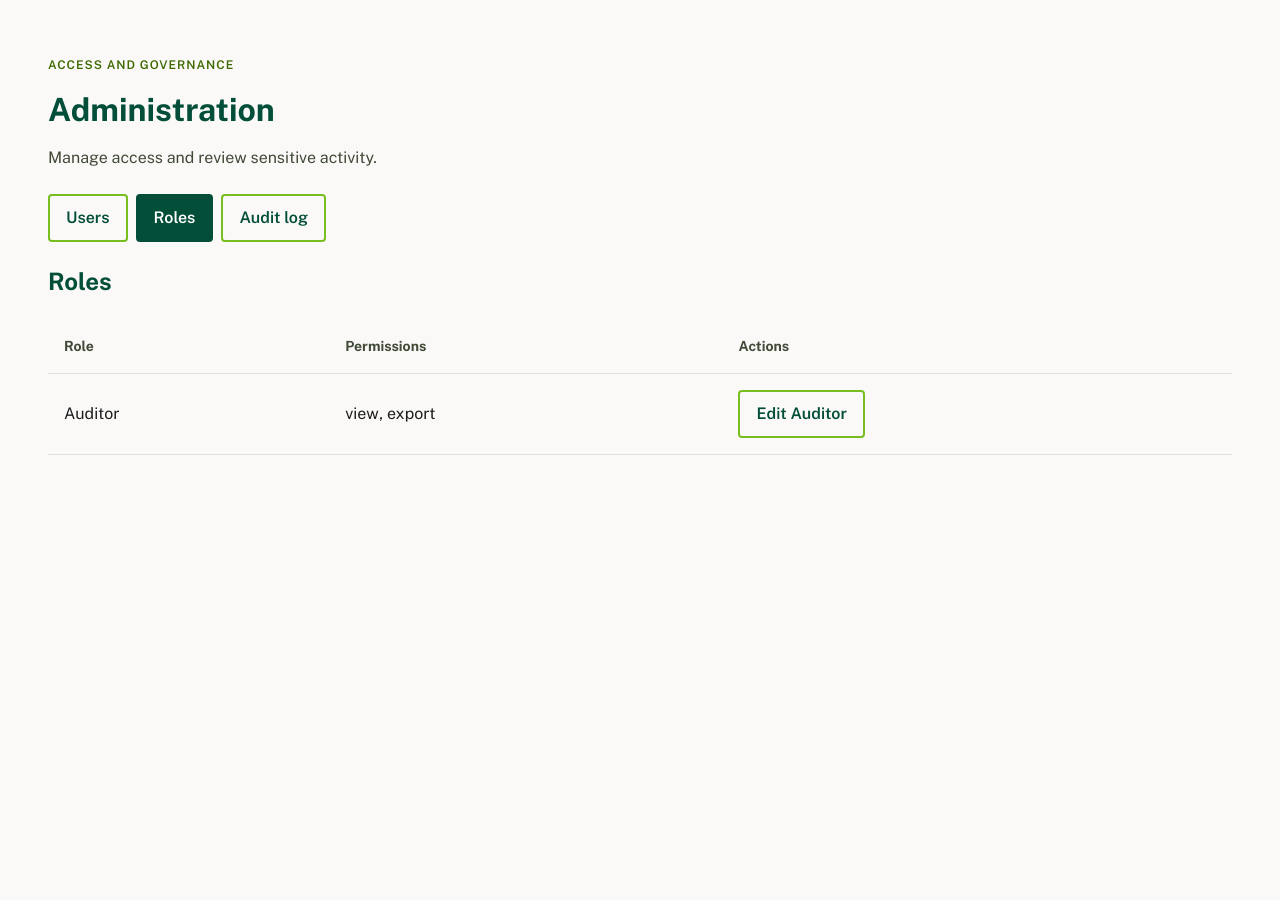
it: limits role permissions and displays server errors
Click the button "Edit Auditor" at {"x": 802, "y": 414}, box [738,390,865,438]
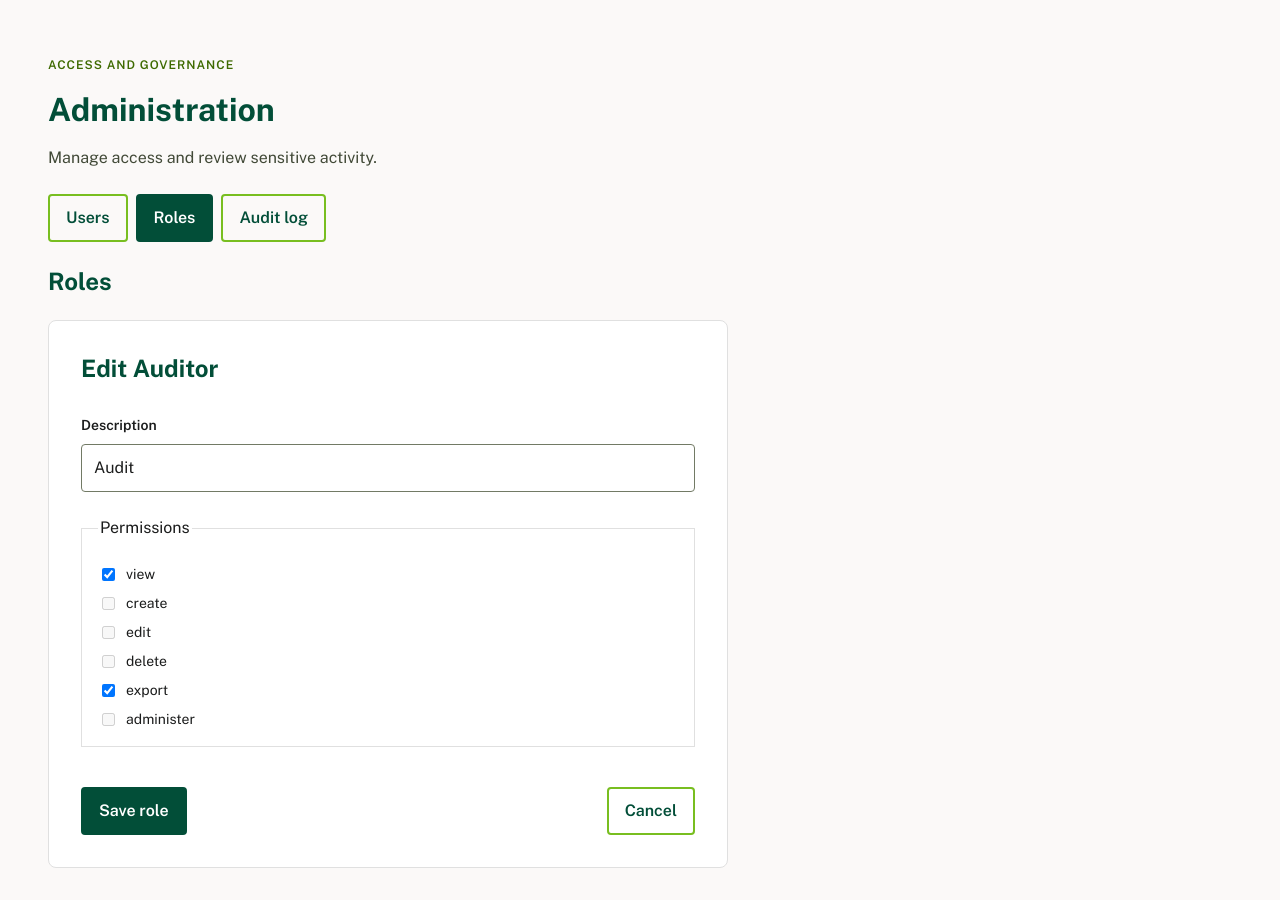
Check: the checkbox labelled "administer" is disabled, box [102,713,115,726]
Click the checkbox labelled "export" at {"x": 108, "y": 690}, box [102,684,115,697]
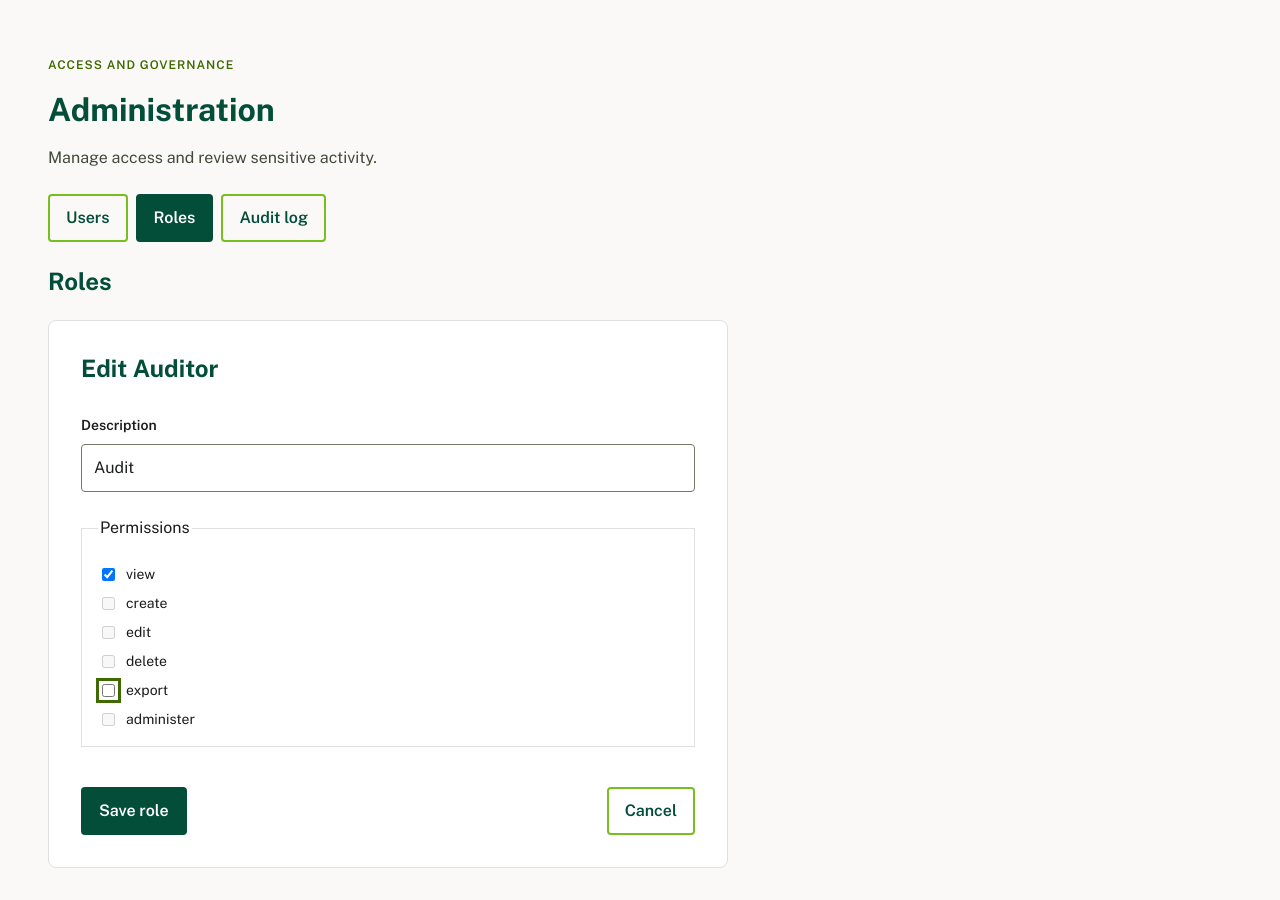
Click the button "Save role" at {"x": 134, "y": 811}, box [81,787,187,835]
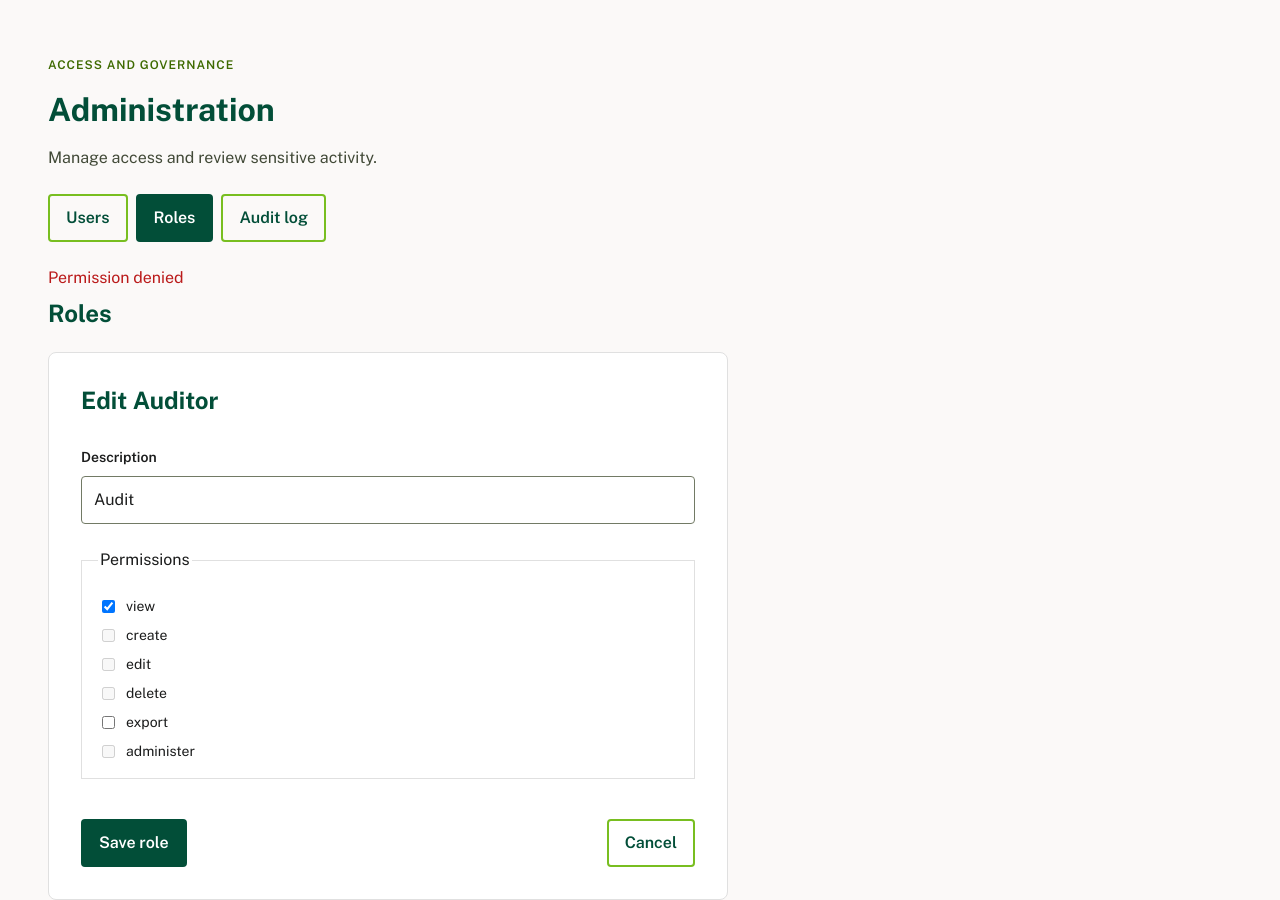
Check: the message reads "Permission denied", box [48,268,184,287]
